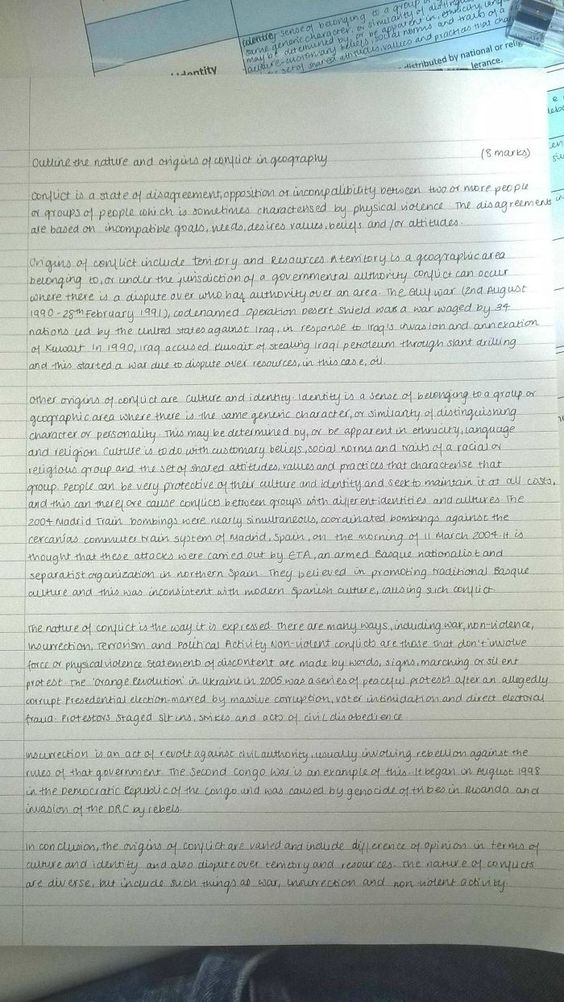page: (2, 75, 544, 948)
